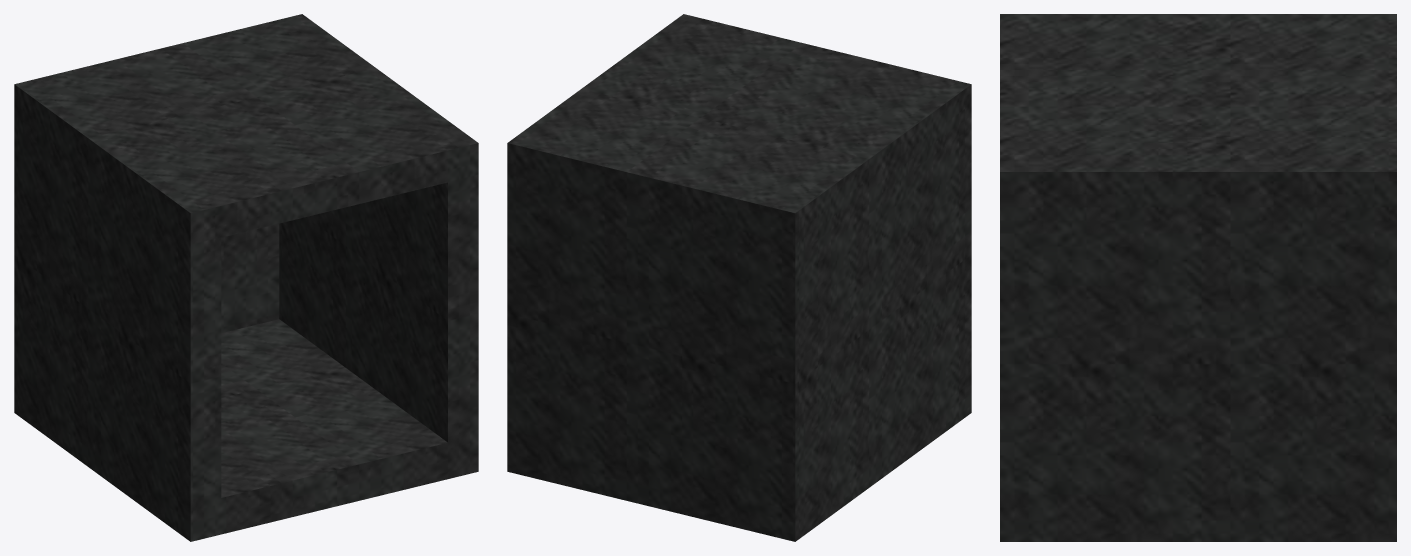
Rendered from frame.dae.
The picture shows the model from 3 angles, left to right: view 1: azimuth 30°, elevation 25°; view 2: azimuth 150°, elevation 25°; view 3: azimuth 270°, elevation 25°; orthographic projection. The views are drawn at different scales.
Visible parts, largest first — view 1: #ID137.001, #ID145; view 2: #ID137.001; view 3: #ID137.001.
Boxes of the visible parts, x1,y1,x2,y2 form: #ID137.001: (14,14,478,541); #ID145: (221,182,447,497); #ID137.001: (507,14,971,541); #ID137.001: (1000,14,1396,541).
Size of the model in its own units: 1.11 by 1.17 by 1.21.
Materials: 2 (2 with a texture image).
